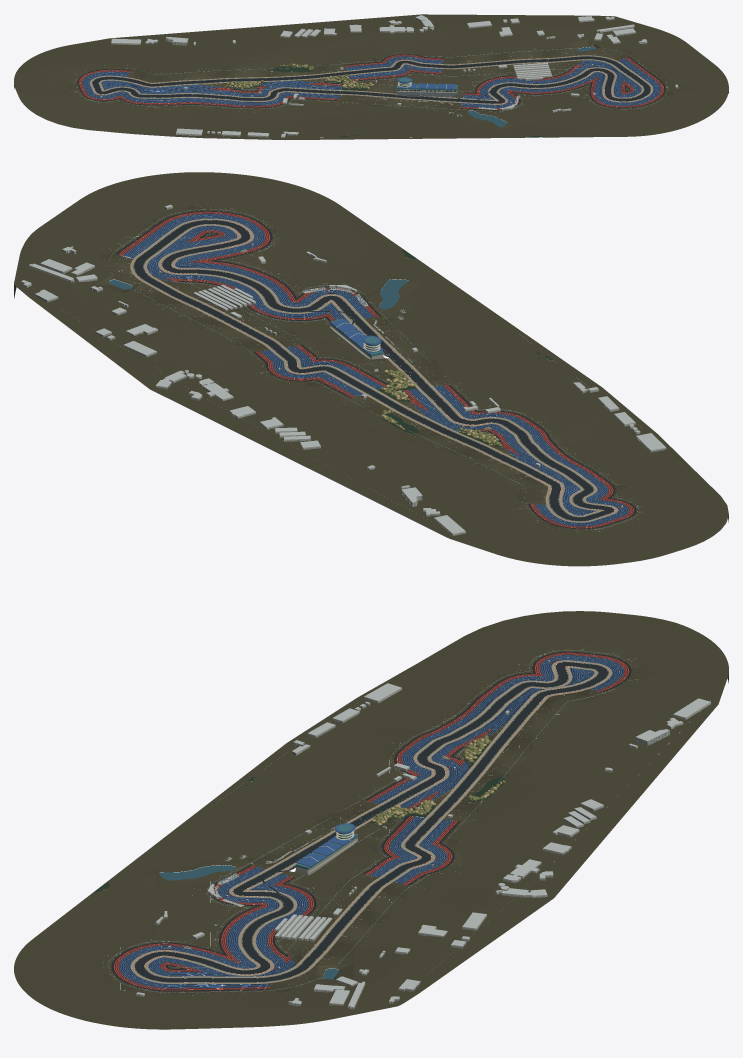
File: PaulRicard.glb
The picture shows the model from 3 angles, top to bottom: view 1: azimuth 30°, elevation 25°; view 2: azimuth 150°, elevation 25°; view 3: azimuth 270°, elevation 25°; orthographic projection. The views are drawn at different scales.
Visible parts, largest first — view 1: terrain/ground, ricard-runoff-base/dark, painted-runoff/blue, road/asphalt, terrain-extension/land, runoff/gravel, terrain-ground-finish-1, painted-runoff/red, terrain-ground-finish-3, terrain-ground-finish-2, terrain-ground-finish-0, terrain-ground-finish-4 (+13 smaller); view 2: terrain/ground, ricard-runoff-base/dark, painted-runoff/blue, road/asphalt, terrain-extension/land, runoff/gravel, terrain-ground-finish-1, painted-runoff/red, terrain-ground-finish-3, terrain-ground-finish-2, terrain-ground-finish-0, terrain-ground-finish-4 (+4 smaller); view 3: terrain/ground, ricard-runoff-base/dark, painted-runoff/blue, road/asphalt, terrain-extension/land, runoff/gravel, terrain-ground-finish-1, painted-runoff/red, terrain-ground-finish-3, terrain-ground-finish-2, terrain-ground-finish-4, terrain-ground-finish-0 (+5 smaller).
Boxes of the visible parts, left/top/right/bottom form: terrain/ground: left=14, top=19, right=728, bottom=137; ricard-runoff-base/dark: left=77, top=54, right=665, bottom=110; painted-runoff/blue: left=82, top=56, right=660, bottom=108; road/asphalt: left=92, top=56, right=650, bottom=103; terrain-extension/land: left=77, top=14, right=649, bottom=140; runoff/gravel: left=89, top=55, right=653, bottom=104; terrain-ground-finish-1: left=86, top=47, right=675, bottom=113; painted-runoff/red: left=78, top=54, right=663, bottom=109; terrain-ground-finish-3: left=71, top=47, right=656, bottom=113; terrain-ground-finish-2: left=74, top=48, right=668, bottom=114; terrain-ground-finish-0: left=94, top=47, right=674, bottom=114; terrain-ground-finish-4: left=68, top=49, right=648, bottom=110; terrain/ground: left=19, top=172, right=728, bottom=566; ricard-runoff-base/dark: left=116, top=210, right=636, bottom=529; painted-runoff/blue: left=123, top=214, right=628, bottom=526; road/asphalt: left=134, top=220, right=614, bottom=521; terrain-extension/land: left=14, top=215, right=693, bottom=551; runoff/gravel: left=130, top=218, right=618, bottom=522; terrain-ground-finish-1: left=102, top=207, right=629, bottom=529; painted-runoff/red: left=118, top=211, right=634, bottom=528; terrain-ground-finish-3: left=109, top=209, right=649, bottom=531; terrain-ground-finish-2: left=105, top=208, right=642, bottom=531; terrain-ground-finish-0: left=99, top=203, right=625, bottom=525; terrain-ground-finish-4: left=115, top=213, right=645, bottom=534; terrain/ground: left=14, top=611, right=728, bottom=1029; ricard-runoff-base/dark: left=111, top=651, right=631, bottom=991; painted-runoff/blue: left=119, top=655, right=623, bottom=988; road/asphalt: left=134, top=662, right=608, bottom=982; terrain-extension/land: left=46, top=663, right=726, bottom=1017; runoff/gravel: left=130, top=660, right=612, bottom=983; terrain-ground-finish-1: left=102, top=667, right=640, bottom=996; painted-runoff/red: left=114, top=652, right=629, bottom=990; terrain-ground-finish-3: left=102, top=646, right=639, bottom=994; terrain-ground-finish-2: left=102, top=650, right=640, bottom=995; terrain-ground-finish-4: left=107, top=646, right=639, bottom=983; terrain-ground-finish-0: left=104, top=673, right=635, bottom=996.
Size of the model in its own units: 2773 by 75.35 by 1994.
